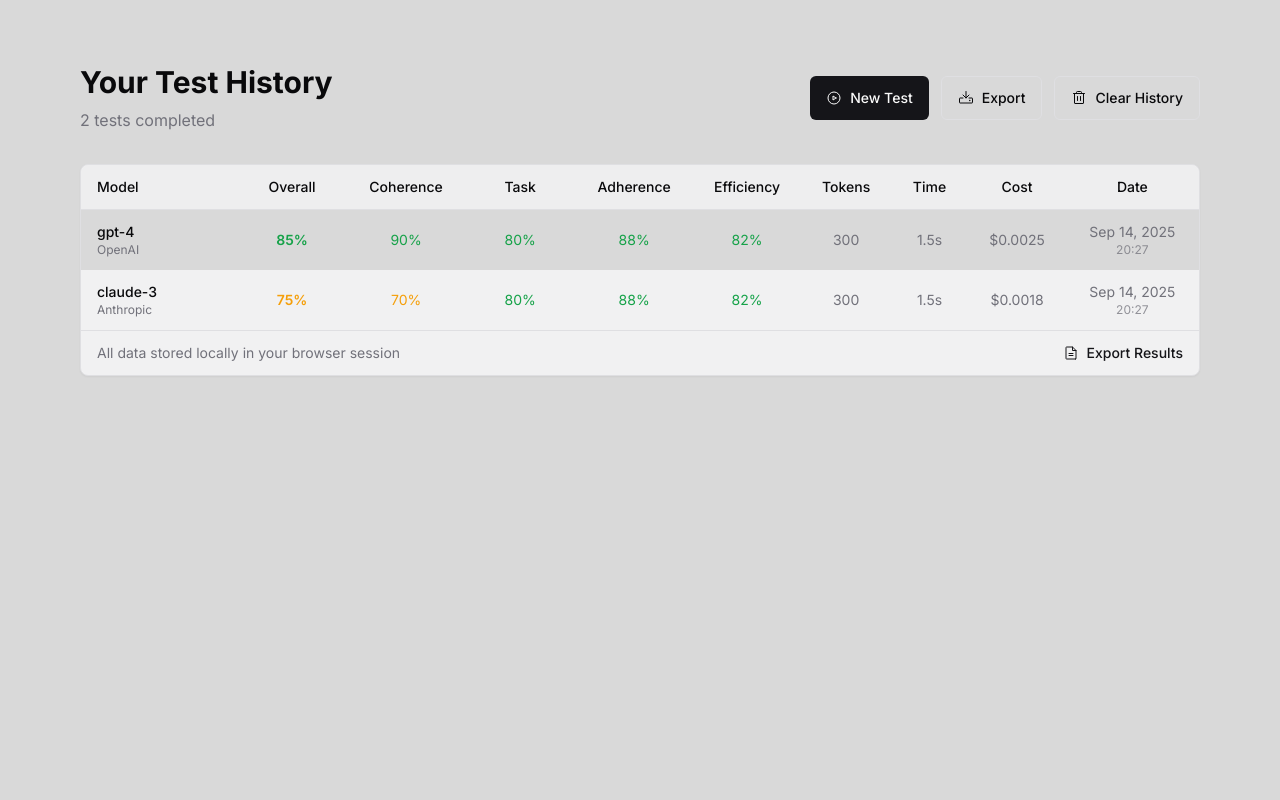
Test case: TestHistory › Clear History Functionality › shows confirmation dialog when clear history is clicked
The width and height of the screenshot is (1280, 800).
Click the text "Clear History". click: click(1139, 98)
box: [1096, 88, 1183, 108]
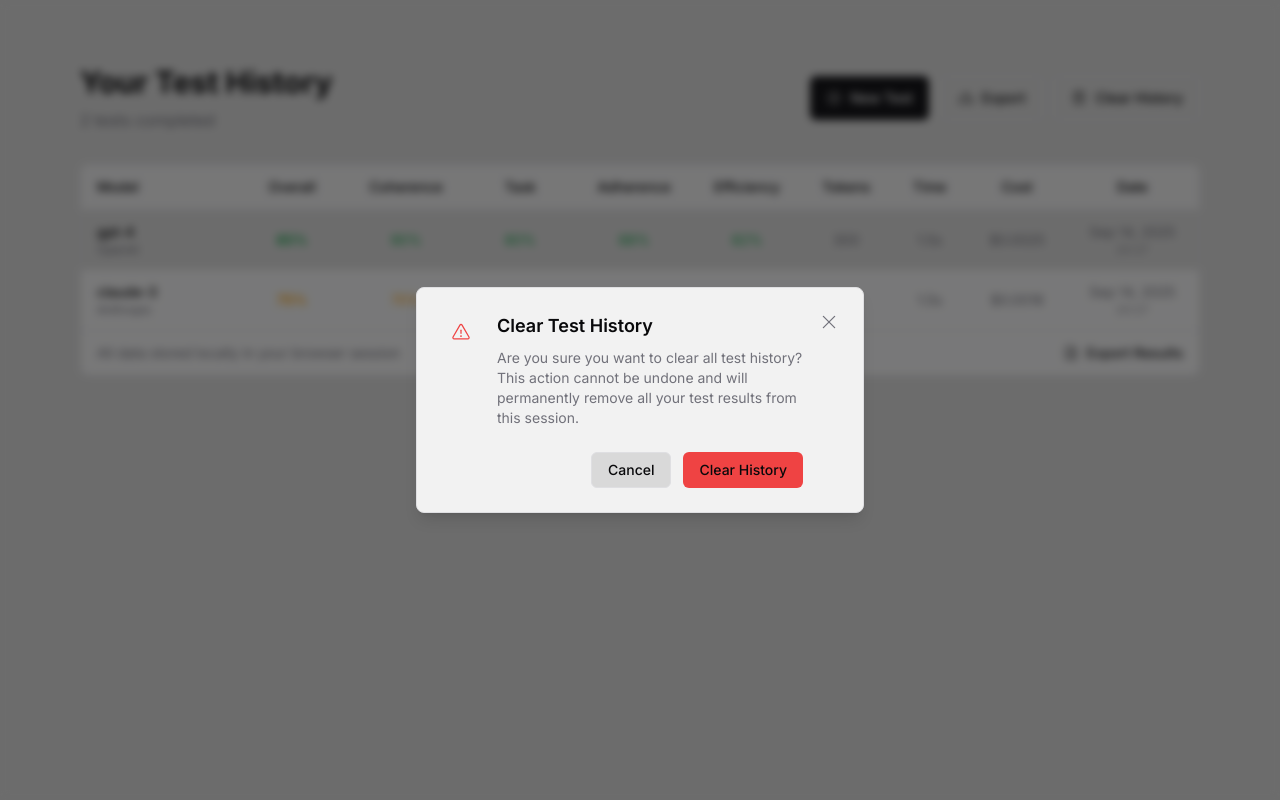
Expected: the heading "Clear Test History" is shown, [497, 315, 653, 336]
Expected: the text "Are you sure you want to clear all test history" is shown, [497, 349, 802, 426]
